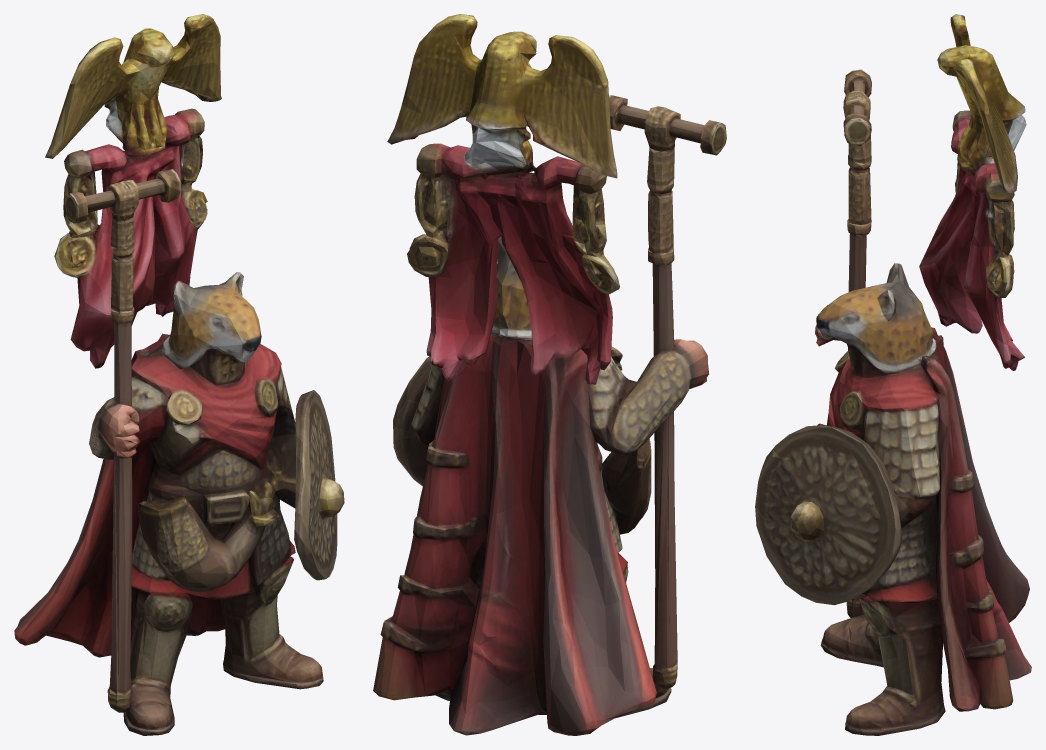
File: standardBearer.glb
The picture shows the model from 3 angles, left to right: view 1: azimuth 30°, elevation 25°; view 2: azimuth 150°, elevation 25°; view 3: azimuth 270°, elevation 25°; orthographic projection. The views are drawn at different scales.
Visible parts, largest first — view 1: world; view 2: world; view 3: world.
Part boxes in pixels (box(x1,y1,x2,y2)): world: box(14, 14, 344, 735); world: box(373, 14, 726, 735); world: box(755, 14, 1031, 735).
Bounding box in the file's own units: 0.4584 × 1 × 0.3933.
1 material, 1 textured.
